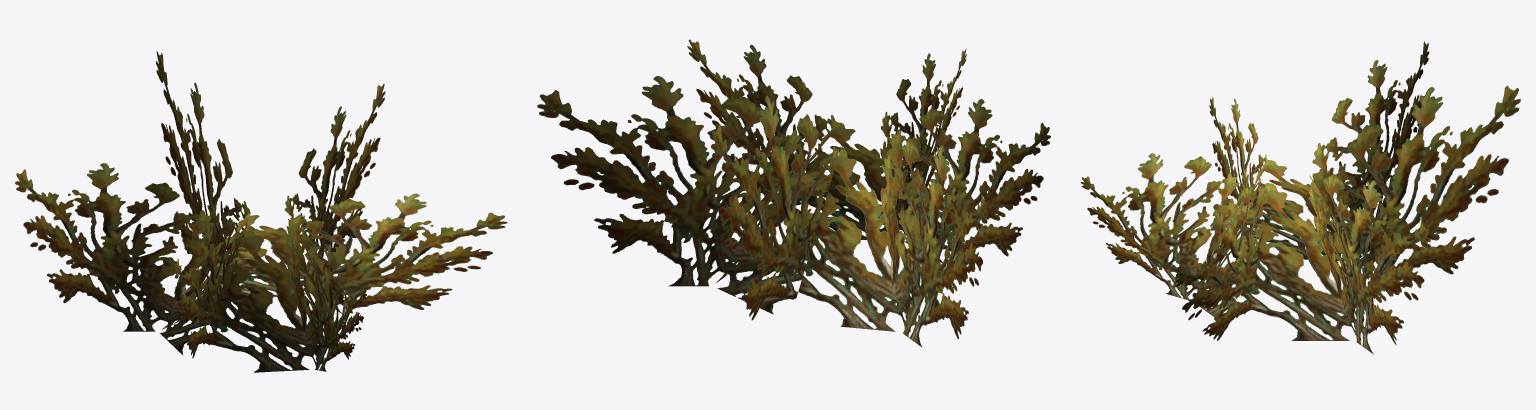
File: plaguelandwesternbush03.obj
3 views of the same model, side by side, from view 1: azimuth 30°, elevation 25°; view 2: azimuth 150°, elevation 25°; view 3: azimuth 270°, elevation 25° (orthographic). The views are drawn at different scales.
Parts seen in each view (by area): view 1: PLAGUELANDWESTERNBUSH030; view 2: PLAGUELANDWESTERNBUSH030; view 3: PLAGUELANDWESTERNBUSH030.
Part boxes in pixels (x1,y1,x2,y2): PLAGUELANDWESTERNBUSH030: (15,51,507,372); PLAGUELANDWESTERNBUSH030: (537,39,1050,347); PLAGUELANDWESTERNBUSH030: (1080,41,1520,354).
Bounding box in the file's own units: 5.4 × 3.34 × 5.33.
Materials: 1 (1 with a texture image).
